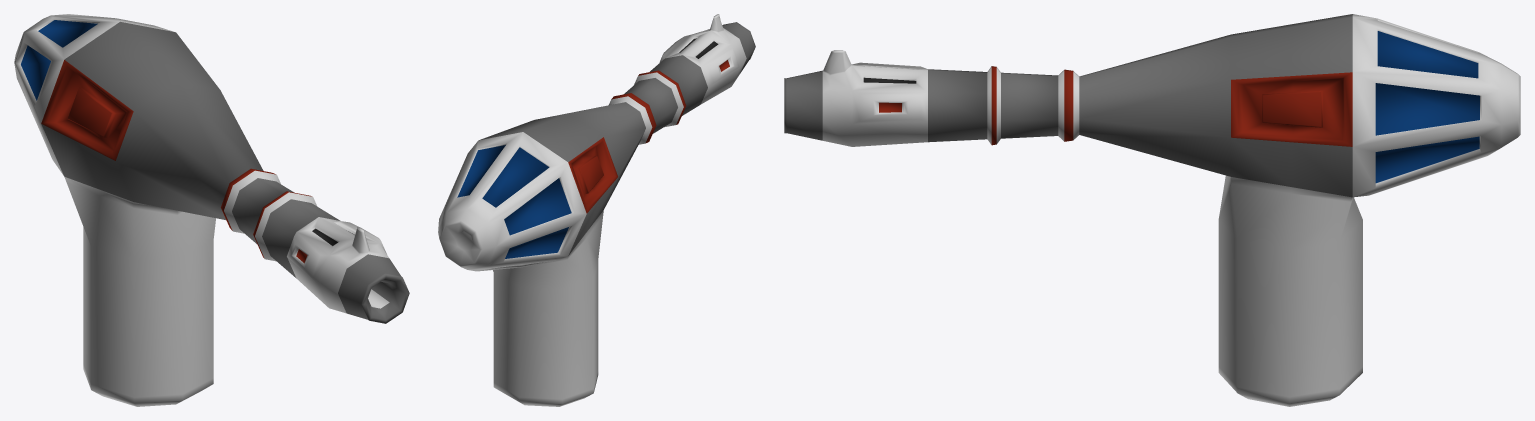
Rendered from gun1.fbx.
3 renders of one model, left to right at view 1: azimuth 30°, elevation 25°; view 2: azimuth 150°, elevation 25°; view 3: azimuth 270°, elevation 25°, orthographic. The views are drawn at different scales.
Parts seen in each view (by area): view 1: Cylinder; view 2: Cylinder; view 3: Cylinder.
Boxes of the visible parts, left/top/right/bottom form: Cylinder: left=14, top=14, right=409, bottom=406; Cylinder: left=438, top=14, right=755, bottom=406; Cylinder: left=784, top=14, right=1520, bottom=406.
Size of the model in its own units: 25.77 by 53.22 by 97.22.
